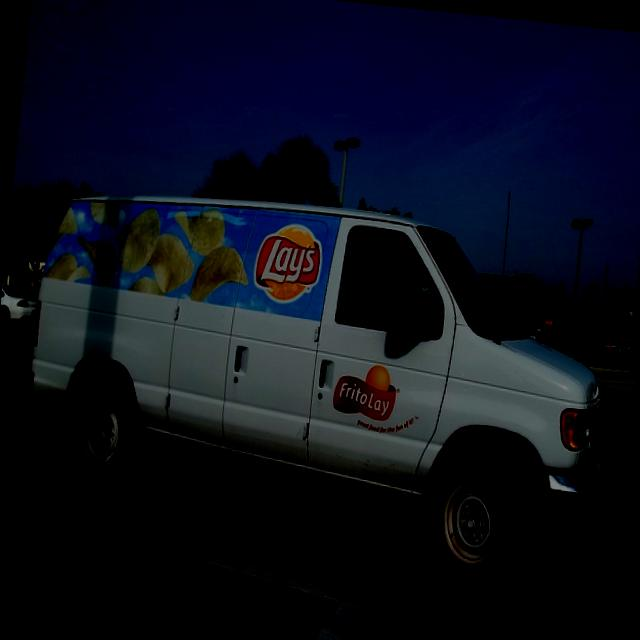Vehicle: (14, 190, 636, 598), (580, 329, 634, 371), (0, 284, 38, 327), (534, 328, 584, 358)
